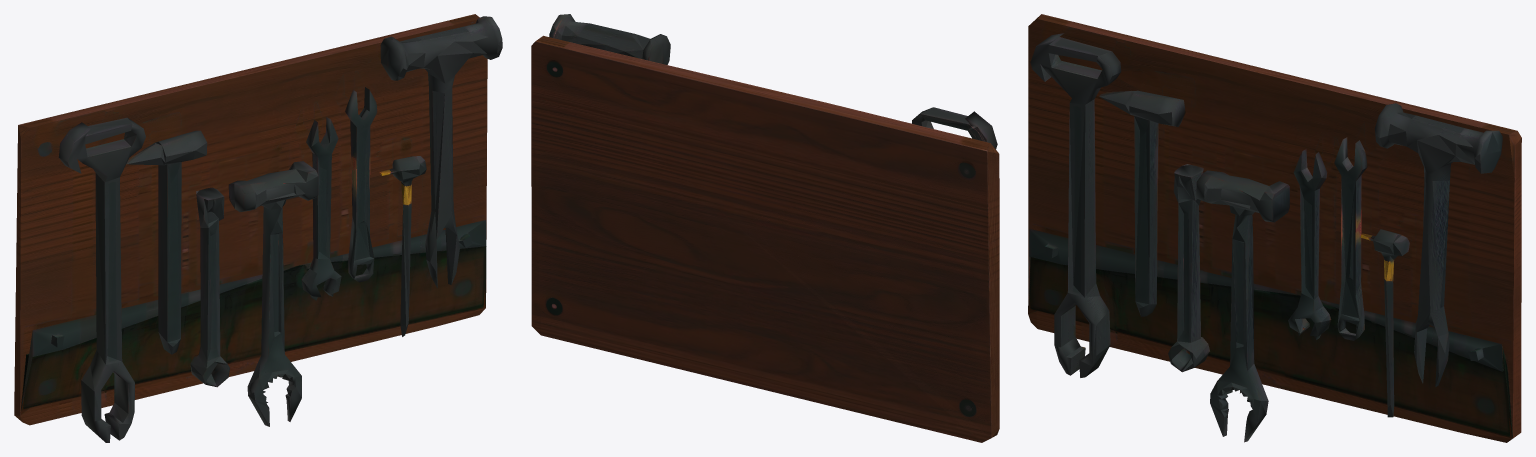
The model's file is PR_WorkshopPegboard.fbx.
3 renders of one model, left to right at view 1: azimuth 30°, elevation 25°; view 2: azimuth 150°, elevation 25°; view 3: azimuth 330°, elevation 25°, orthographic. The views are drawn at different scales.
Parts seen in each view (by area): view 1: Mesh_0; view 2: Mesh_0; view 3: Mesh_0.
Part boxes in pixels (bbox=[...]): Mesh_0: bbox=[14, 14, 502, 442]; Mesh_0: bbox=[531, 14, 999, 442]; Mesh_0: bbox=[1028, 14, 1521, 442].
Bounding box in the file's own units: 190 × 133 × 29.04.
1 material, 1 textured.
